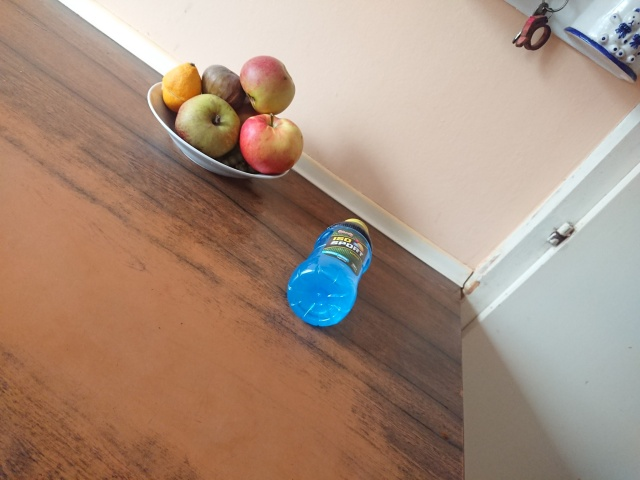Vindi Iso Sport Forest Strawberries 500mL: (284, 216, 374, 328)
